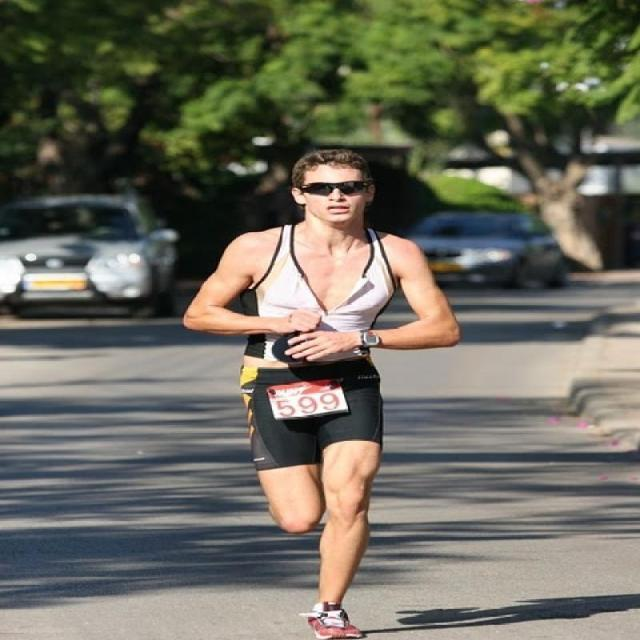dorsal: (258, 378, 353, 419)
